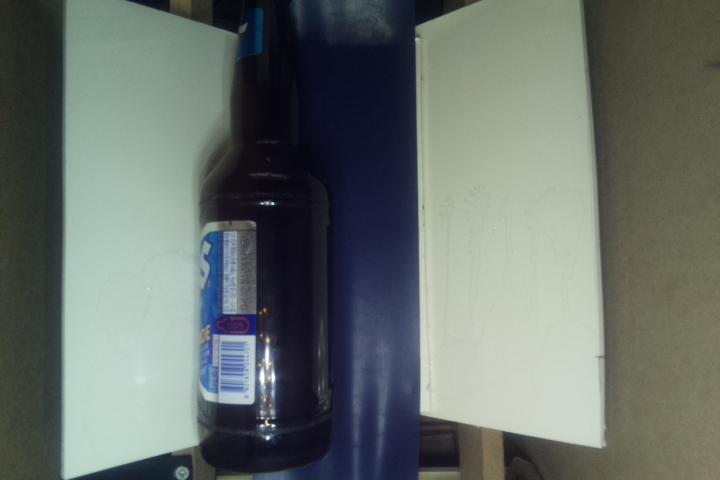makju: (195, 1, 333, 476)
